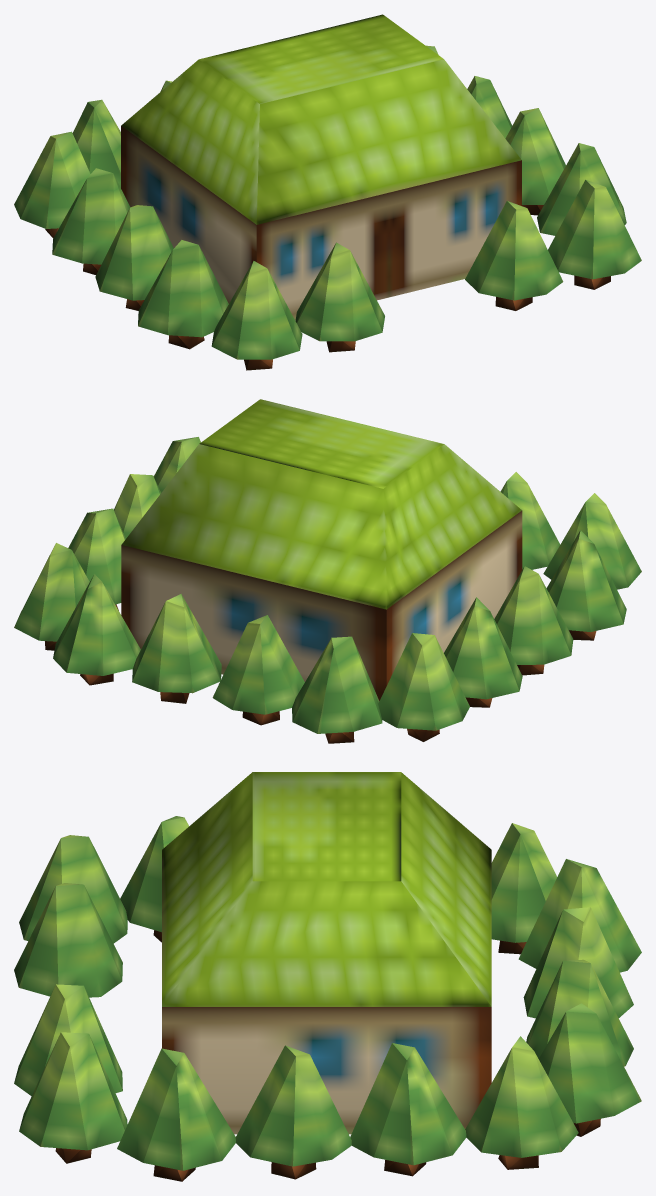
Rendered from Poly_World_Map_Town_House_03.obj.
3 renders of one model, top to bottom at view 1: azimuth 30°, elevation 25°; view 2: azimuth 150°, elevation 25°; view 3: azimuth 270°, elevation 25°, orthographic. The views are drawn at different scales.
Visible parts, largest first — view 1: Cube.002_Cube.001, Cube.001_Cube.002; view 2: Cube.002_Cube.001, Cube.001_Cube.002; view 3: Cube.002_Cube.001, Cube.001_Cube.002.
Part boxes in pixels (left/top/right/bottom): Cube.002_Cube.001: left=121, top=14, right=521, bottom=320; Cube.001_Cube.002: left=14, top=45, right=641, bottom=370; Cube.002_Cube.001: left=121, top=399, right=522, bottom=700; Cube.001_Cube.002: left=14, top=437, right=641, bottom=743; Cube.002_Cube.001: left=162, top=772, right=491, bottom=1134; Cube.001_Cube.002: left=14, top=816, right=641, bottom=1181.
Size of the model in its own units: 1.08 by 0.3999 by 0.9937.
Materials: 1 (1 with a texture image).
